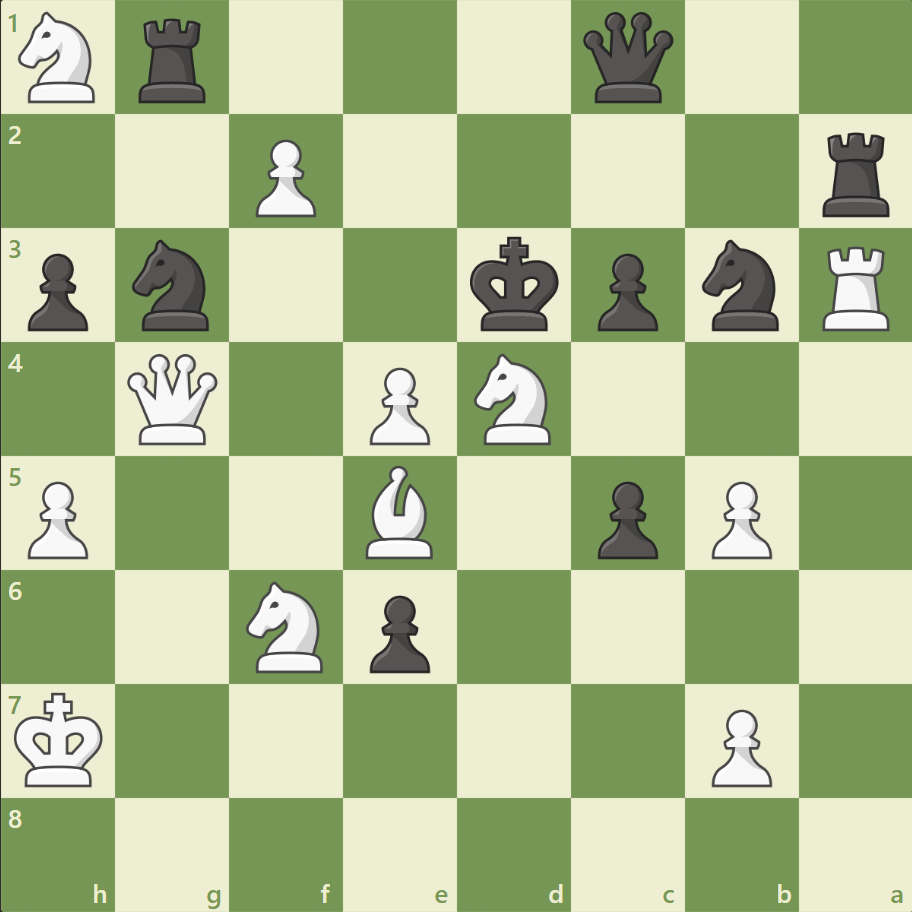B: (358, 460, 442, 563)
K: (11, 685, 111, 793)
N: (11, 7, 108, 110), (238, 575, 335, 677), (465, 348, 562, 450)
P: (701, 700, 776, 791), (701, 473, 776, 564), (20, 473, 95, 564), (247, 132, 322, 223), (361, 359, 435, 450)
Q: (124, 349, 223, 449)
R: (814, 239, 897, 336)
k: (465, 231, 565, 339)
n: (124, 234, 222, 337), (692, 234, 789, 337)
p: (20, 246, 95, 337), (361, 586, 435, 677), (588, 473, 662, 564), (588, 246, 662, 337)
q: (578, 9, 677, 108)
r: (814, 125, 897, 222), (133, 12, 215, 109)
